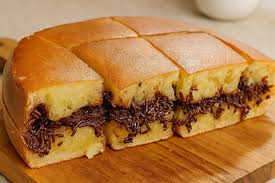Martabak manis: (2, 28, 108, 172), (103, 34, 180, 150), (177, 31, 245, 137), (32, 15, 141, 52), (113, 13, 215, 39), (242, 41, 273, 123)
